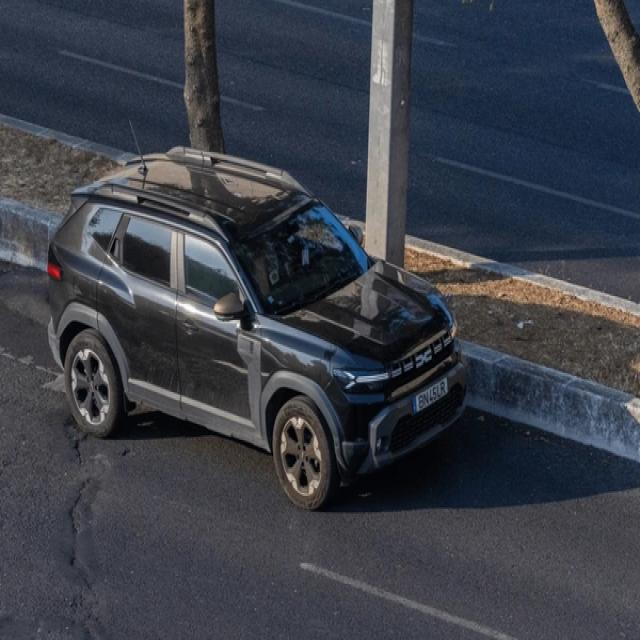dacia: (414, 344, 433, 372)
